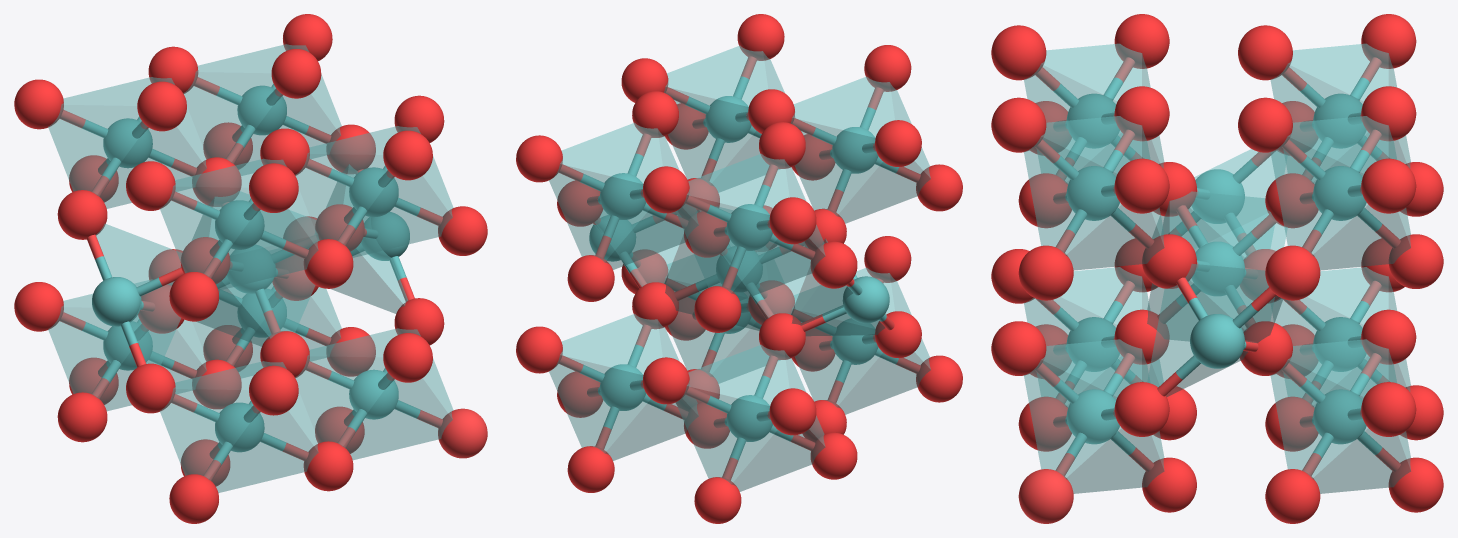
Rendered from RuO2.glb.
3 renders of one model, left to right at view 1: azimuth 30°, elevation 25°; view 2: azimuth 150°, elevation 25°; view 3: azimuth 270°, elevation 25°, orthographic. The views are drawn at different scales.
Visible parts, largest first — view 1: polyhedra, atoms, bonds; view 2: polyhedra, atoms, bonds; view 3: polyhedra, atoms, bonds.
Part boxes in pixels (x1,y1,x2,y2): polyhedra: [48, 44, 453, 492]; atoms: [14, 14, 487, 523]; bonds: [60, 77, 442, 480]; polyhedra: [549, 45, 930, 491]; atoms: [516, 14, 962, 523]; bonds: [559, 56, 920, 480]; polyhedra: [1024, 43, 1410, 493]; atoms: [991, 14, 1443, 523]; bonds: [1035, 57, 1400, 475].
Bounding box in the file's own units: 7.22 × 8.22 × 8.22.
